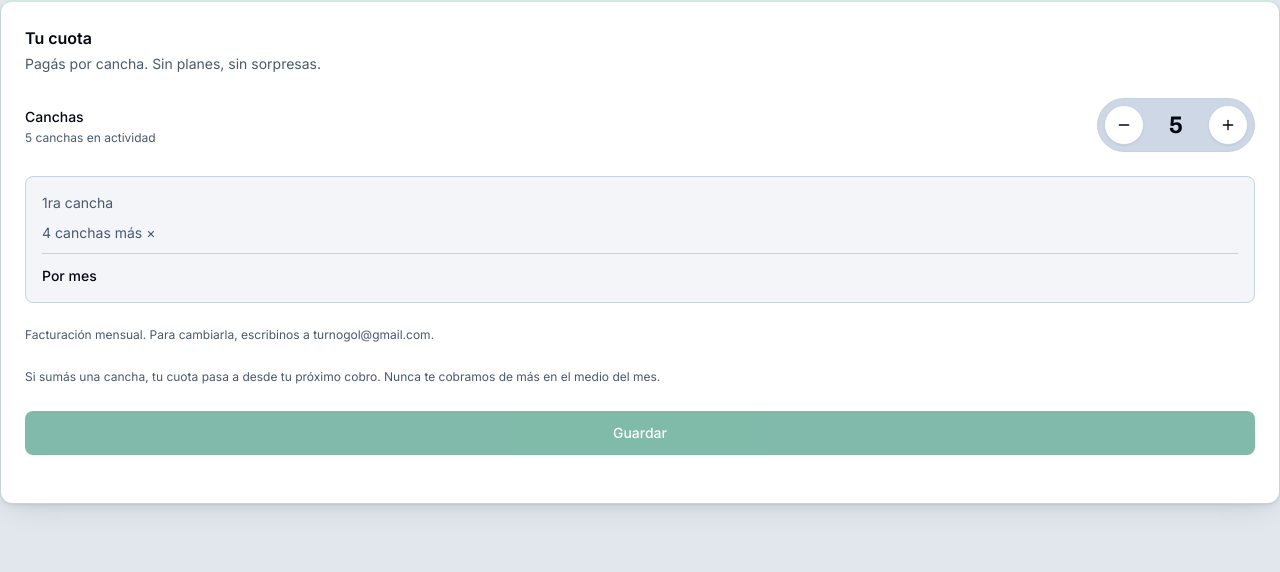
Test: CuotaSection — el stepper no baja de las canchas online › con onlineCourts=5 y billedCourts=5, "Quitar una cancha" no baja el valor y explica qué hacer
expect the text "5" is shown: met, box 1169,112 -> 1183,138
Click the button named "Quitar una cancha".
click(1124, 125)  # box 1104,105 -> 1144,145
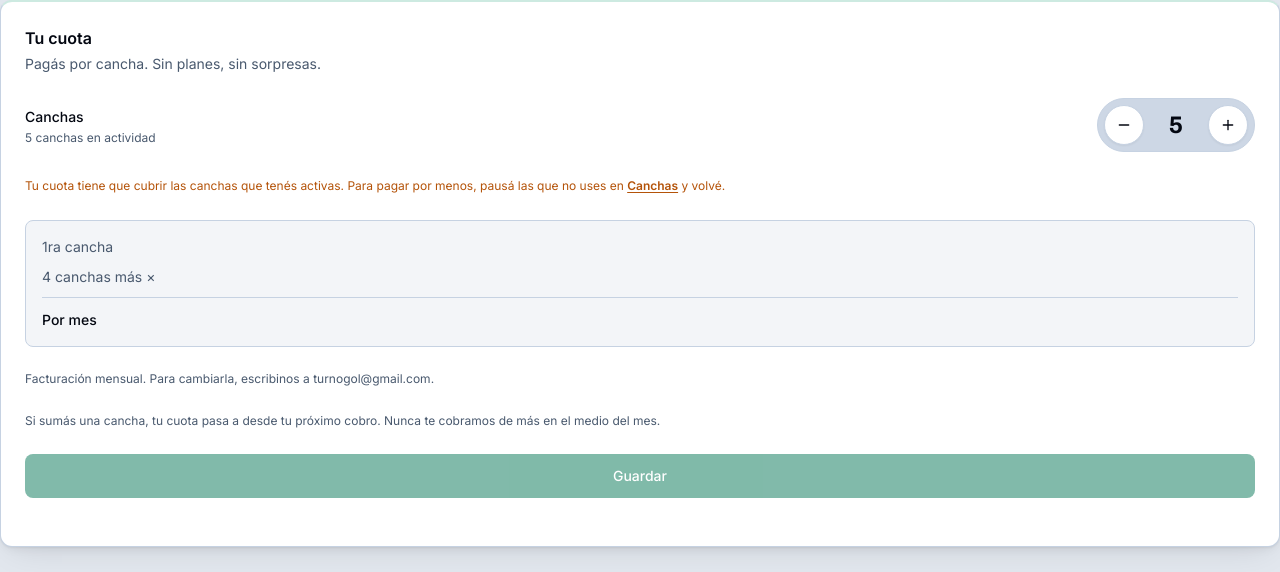
expect the text "5" is shown: met, box 1169,112 -> 1183,138
expect the text "Para pagar por menos, pausá las que no uses" is shown: met, box 25,178 -> 624,193
